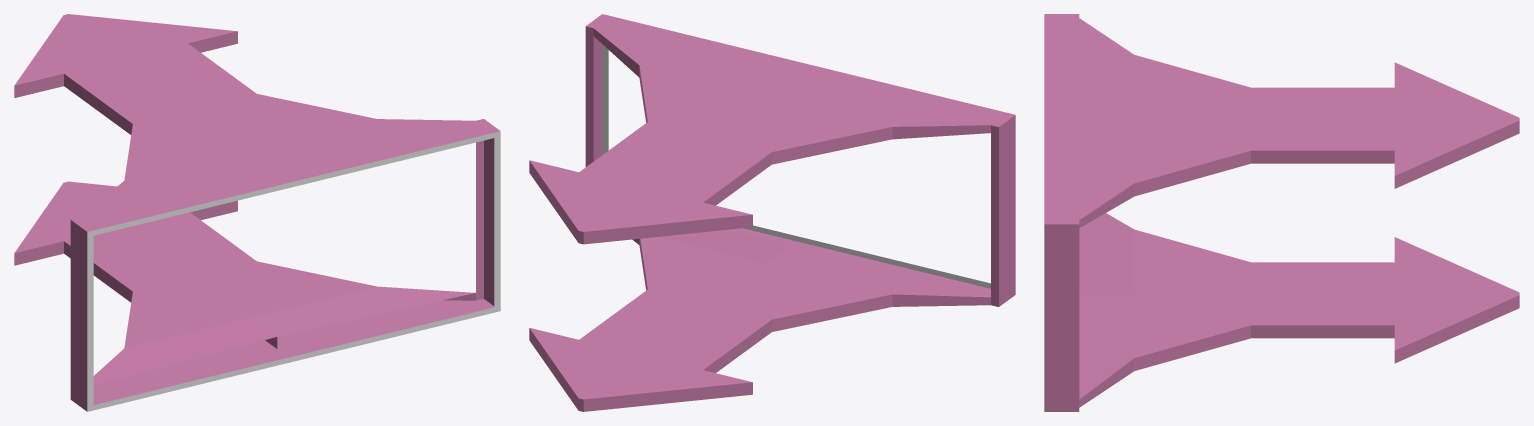
The model's file is RingPanelCorners.fbx.
3 views of the same model, side by side, from view 1: azimuth 30°, elevation 25°; view 2: azimuth 150°, elevation 25°; view 3: azimuth 270°, elevation 25° (orthographic). The views are drawn at different scales.
Visible parts, largest first — view 1: Cube.005, Cube.007, Cube.004, Cube.006; view 2: Cube.005, Cube.007, Cube.004, Cube.006; view 3: Cube.004, Cube.006, Cube.005, Cube.007.
Part boxes in pixels (<box>): Cube.005: <box>14,14,293,321</box>; Cube.007: <box>14,182,293,411</box>; Cube.004: <box>66,14,500,222</box>; Cube.006: <box>66,181,500,361</box>; Cube.005: <box>581,64,1015,244</box>; Cube.007: <box>581,205,1015,411</box>; Cube.004: <box>529,14,808,243</box>; Cube.006: <box>529,104,808,411</box>; Cube.004: <box>1044,119,1519,317</box>; Cube.006: <box>1044,293,1519,411</box>; Cube.005: <box>1044,14,1519,118</box>; Cube.007: <box>1079,213,1519,293</box>.
Size of the model in its own units: 215 by 89.37 by 205.
